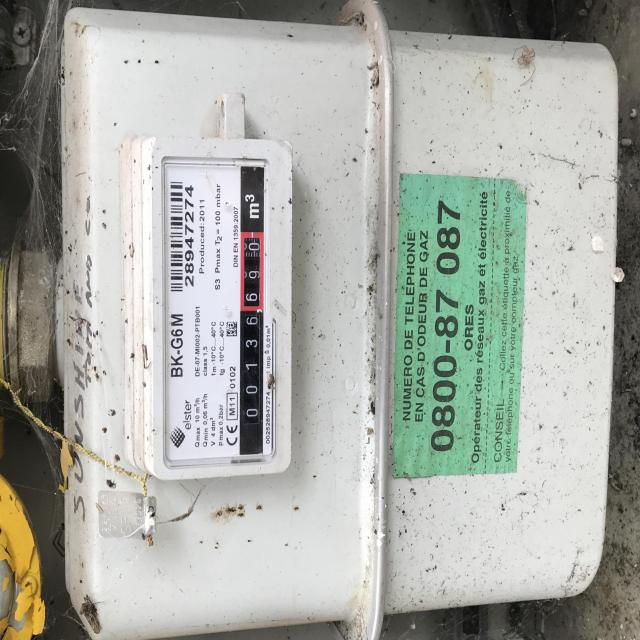gaz_meter: (157, 148, 275, 461)
indication: (236, 233, 263, 427)
